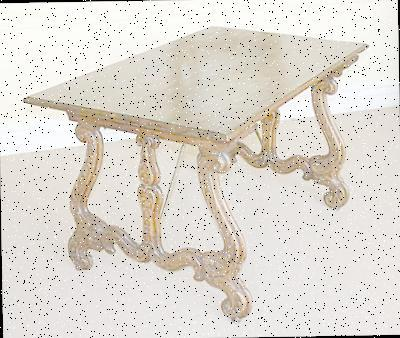Mesa: (24, 24, 369, 326)
